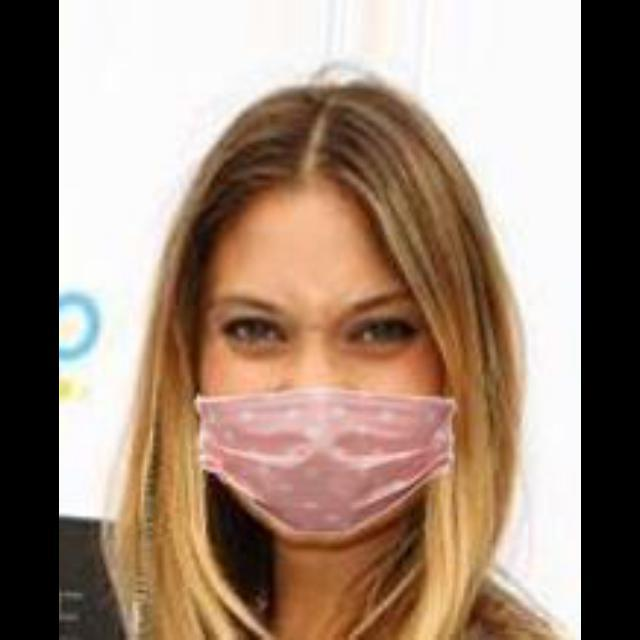suspicion: (161, 120, 501, 546)
